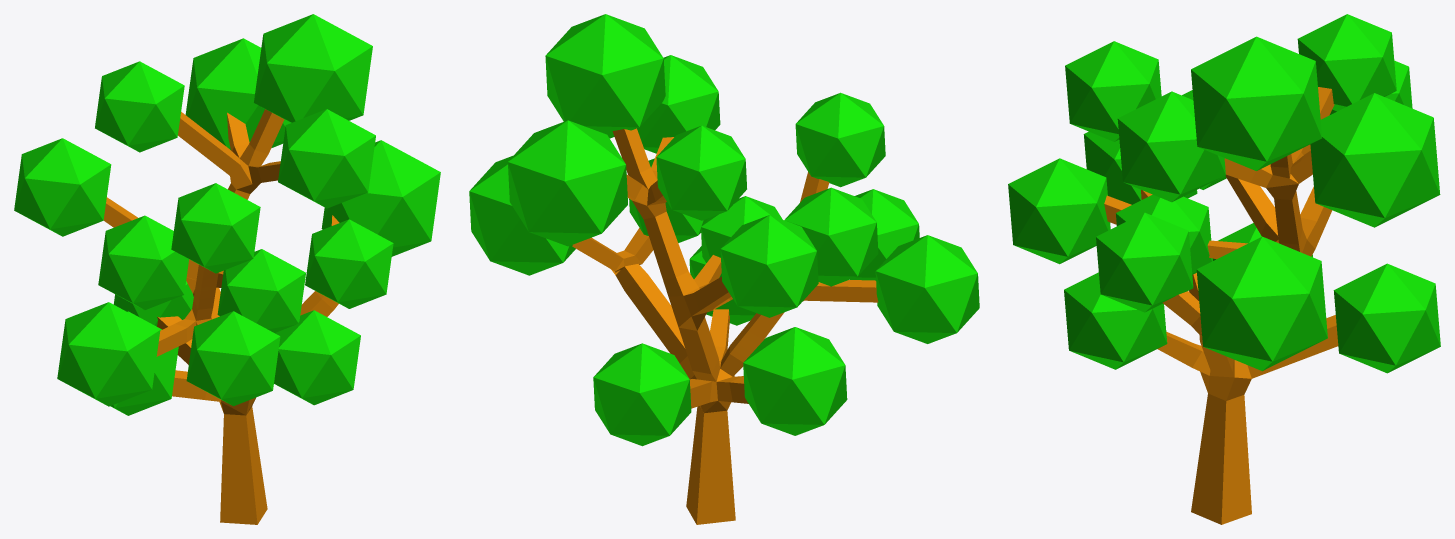
Rendered from tree.glb.
The picture shows the model from 3 angles, left to right: view 1: azimuth 30°, elevation 25°; view 2: azimuth 150°, elevation 25°; view 3: azimuth 270°, elevation 25°; orthographic projection. The views are drawn at different scales.
Visible parts, largest first — view 1: Tree; view 2: Tree; view 3: Tree.
Boxes of the visible parts, x1,y1,x2,y2 form: Tree: [14, 14, 440, 524]; Tree: [469, 14, 979, 524]; Tree: [1008, 14, 1440, 524].
Bounding box in the file's own units: 5.21 × 5.54 × 4.15.
